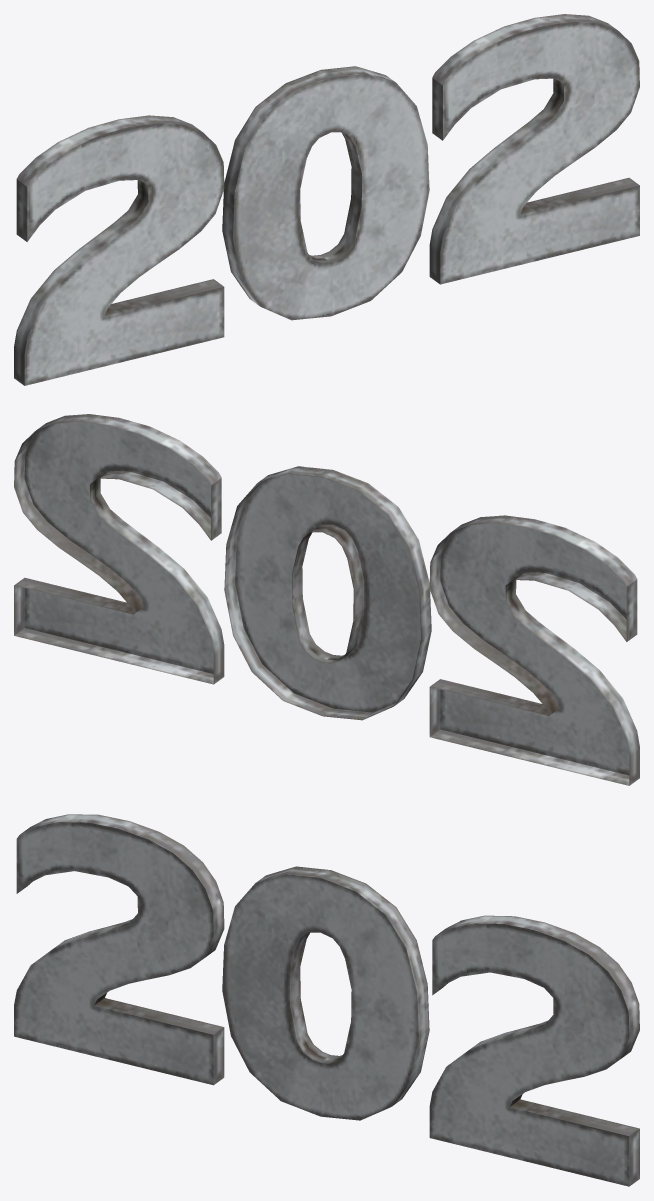
The model's file is categorySign202.FBX.
The picture shows the model from 3 angles, top to bottom: view 1: azimuth 30°, elevation 25°; view 2: azimuth 150°, elevation 25°; view 3: azimuth 330°, elevation 25°; orthographic projection.
Parts seen in each view (by area): view 1: SM_CategorySign202; view 2: SM_CategorySign202; view 3: SM_CategorySign202.
Boxes of the visible parts, x1,y1,x2,y2 form: SM_CategorySign202: [14, 14, 639, 385]; SM_CategorySign202: [14, 414, 639, 785]; SM_CategorySign202: [14, 814, 639, 1186].
Bounding box in the file's own units: 6.7 × 2.48 × 0.2.
1 material, 1 textured.
